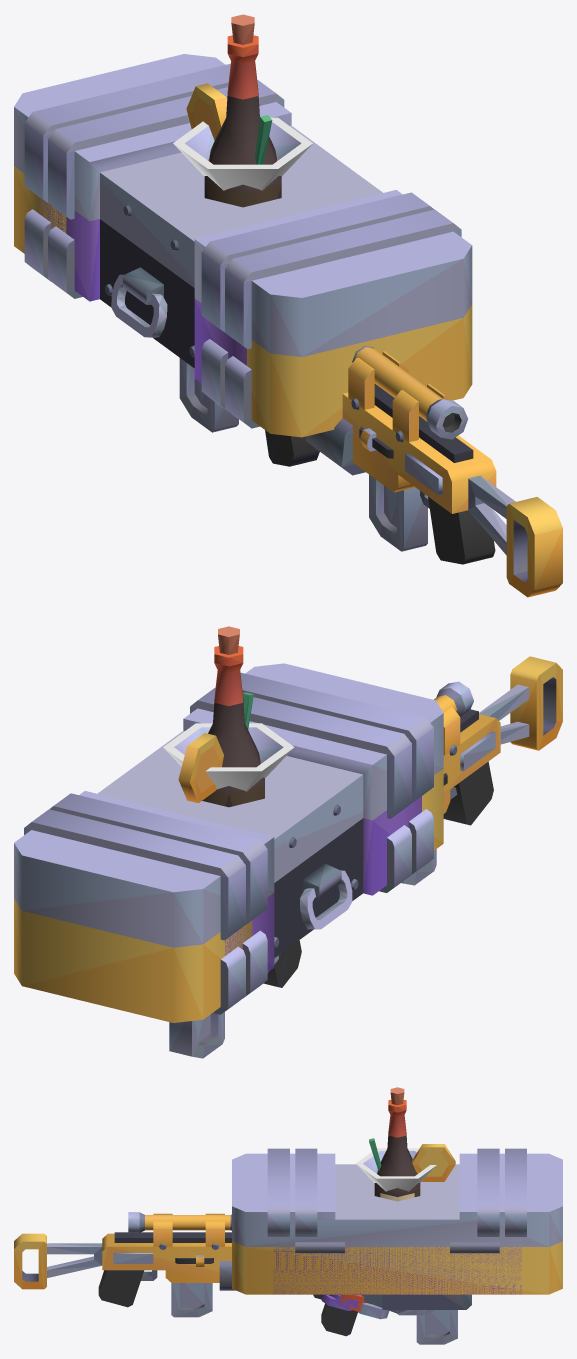
The model's file is kenney-blaster.glb.
3 renders of one model, top to bottom at view 1: azimuth 30°, elevation 25°; view 2: azimuth 150°, elevation 25°; view 3: azimuth 270°, elevation 25°, orthographic. The views are drawn at different scales.
Visible parts, largest first — view 1: crate-wide, crate-medium, blaster-e, food-wine-red, food-cocktail, blaster-a; view 2: crate-wide, crate-medium, blaster-e, food-cocktail, food-wine-red, blaster-a; view 3: crate-wide, crate-medium, blaster-e, blaster-a, food-cocktail, food-wine-red, blaster-b, blaster-d.
Part boxes in pixels (box(x1,y1,x2,y2)): crate-wide: box(14, 54, 472, 437); crate-medium: box(37, 80, 442, 411); blaster-e: box(305, 345, 562, 597); food-wine-red: box(204, 14, 281, 207); food-cocktail: box(173, 83, 312, 190); blaster-a: box(179, 358, 319, 466); crate-wide: box(14, 663, 443, 1022); crate-medium: box(45, 687, 421, 998); blaster-e: box(401, 656, 562, 885); food-cocktail: box(163, 692, 294, 803); food-wine-red: box(202, 626, 264, 807); blaster-a: box(169, 940, 301, 1058); crate-wide: box(232, 1148, 562, 1294); crate-medium: box(260, 1148, 534, 1294); blaster-e: box(14, 1212, 235, 1317); blaster-a: box(321, 1294, 471, 1344); food-cocktail: box(356, 1138, 455, 1191); food-wine-red: box(374, 1087, 420, 1201); blaster-b: box(357, 1302, 389, 1319); blaster-d: box(332, 1295, 435, 1315).
Bounding box in the file's own units: 0.5495 × 1 × 1.99.
